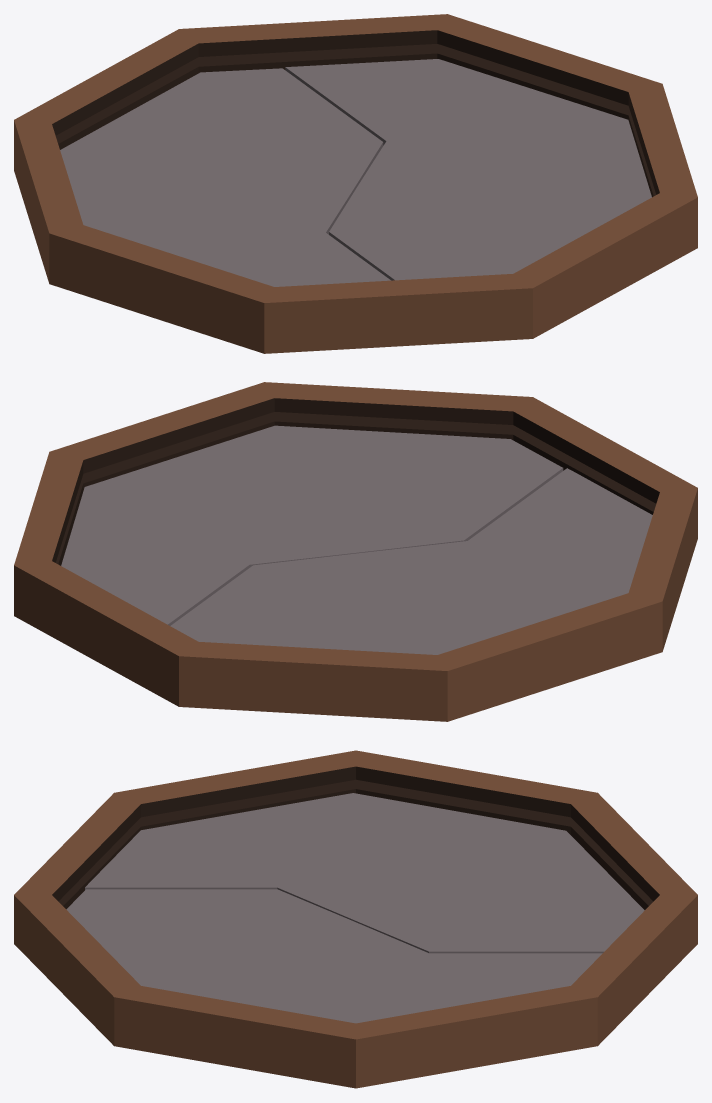
The model's file is BasuraPantano.fbx.
The picture shows the model from 3 angles, top to bottom: view 1: azimuth 30°, elevation 25°; view 2: azimuth 150°, elevation 25°; view 3: azimuth 270°, elevation 25°; orthographic projection. The views are drawn at different scales.
Visible parts, largest first — view 1: BasuraPantanoPlataforma, BasuraPantanoPuerta02, BasuraPantanoPuerta01; view 2: BasuraPantanoPlataforma, BasuraPantanoPuerta02, BasuraPantanoPuerta01; view 3: BasuraPantanoPlataforma, BasuraPantanoPuerta01, BasuraPantanoPuerta02.
Boxes of the visible parts, bbox=[...] form: BasuraPantanoPlataforma: bbox=[14, 14, 697, 353]; BasuraPantanoPuerta02: bbox=[285, 59, 651, 280]; BasuraPantanoPuerta01: bbox=[60, 68, 390, 286]; BasuraPantanoPlataforma: bbox=[14, 382, 697, 721]; BasuraPantanoPuerta02: bbox=[61, 425, 563, 625]; BasuraPantanoPuerta01: bbox=[170, 468, 652, 654]; BasuraPantanoPlataforma: bbox=[14, 750, 697, 1088]; BasuraPantanoPuerta01: bbox=[85, 793, 644, 953]; BasuraPantanoPuerta02: bbox=[66, 889, 602, 1023].
Bounding box in the file's own units: 1803 × 143 × 1803.
